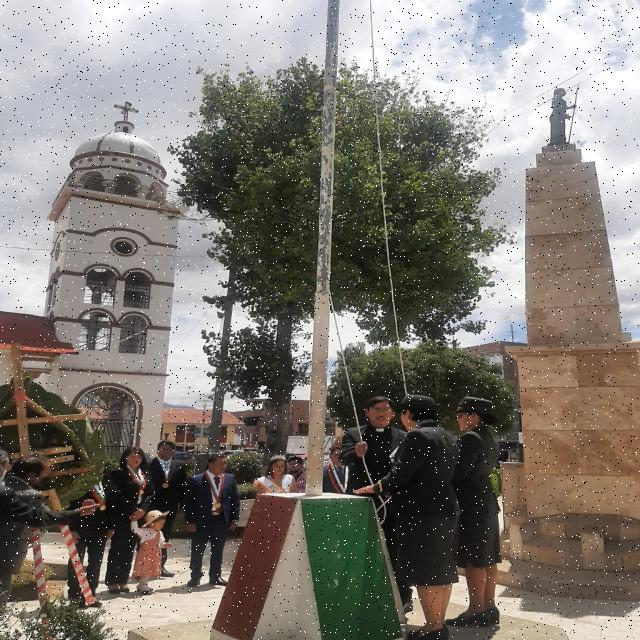CAMPANARIO: (44, 198, 185, 372)
CUPULA: (46, 128, 200, 208)
TORRES: (37, 54, 179, 516)
